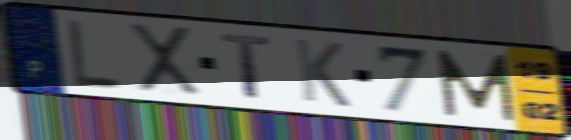7: (370, 42, 435, 114)
K: (291, 36, 354, 110)
L: (64, 17, 124, 92)
M: (432, 47, 519, 123)
T: (218, 31, 276, 102)
X: (123, 21, 205, 97)
